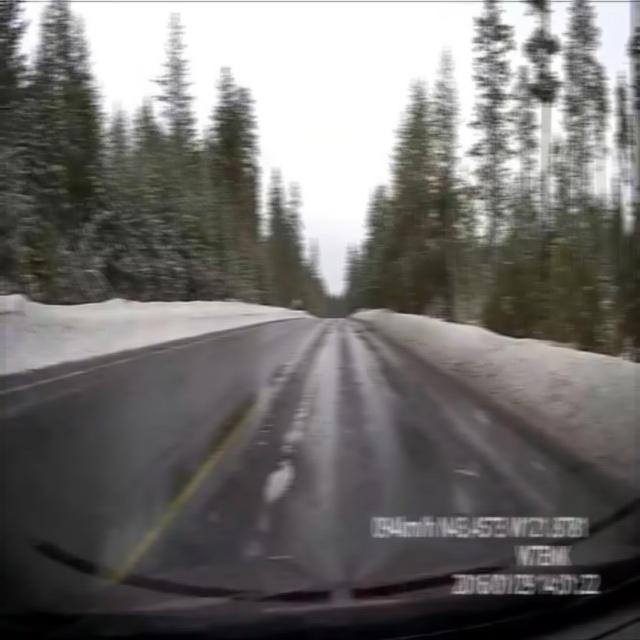Pothole: (252, 452, 302, 503), (280, 384, 317, 452), (448, 463, 484, 479)
